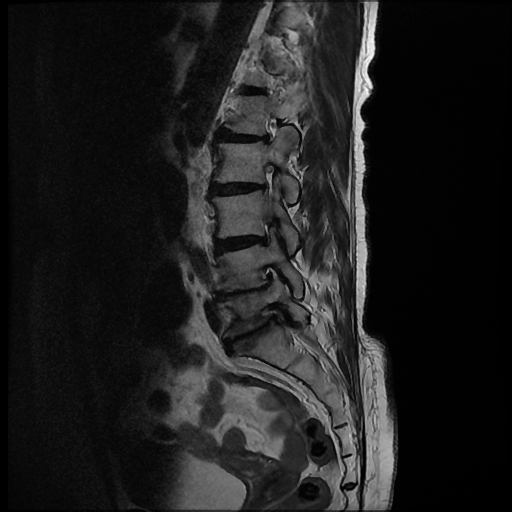LFS0: (253, 153, 285, 200), (255, 108, 285, 150)
